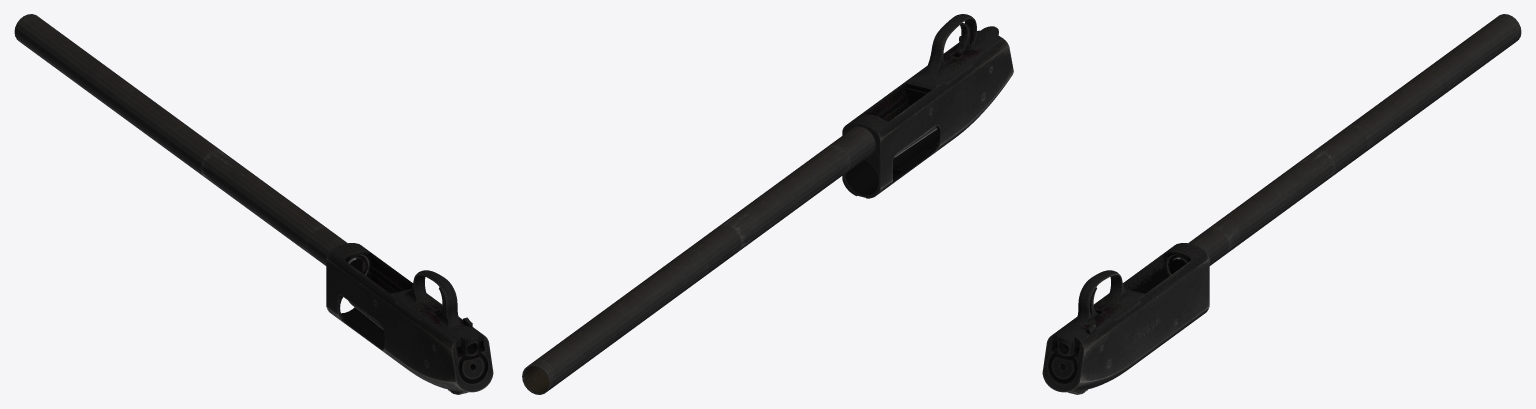
The picture shows the model from 3 angles, left to right: view 1: azimuth 30°, elevation 25°; view 2: azimuth 150°, elevation 25°; view 3: azimuth 330°, elevation 25°; orthographic projection. The views are drawn at different scales.
Visible parts, largest first — view 1: TW_5e870397991fd70db46995c8_PZ_Import; view 2: TW_5e870397991fd70db46995c8_PZ_Import; view 3: TW_5e870397991fd70db46995c8_PZ_Import.
Part boxes in pixels (x1,y1,x2,y2): TW_5e870397991fd70db46995c8_PZ_Import: (14,14,493,394); TW_5e870397991fd70db46995c8_PZ_Import: (522,14,1013,394); TW_5e870397991fd70db46995c8_PZ_Import: (1042,14,1521,394).
Size of the model in its own units: 0.0198 by 0.4132 by 0.054.
Materials: 1 (1 with a texture image).
